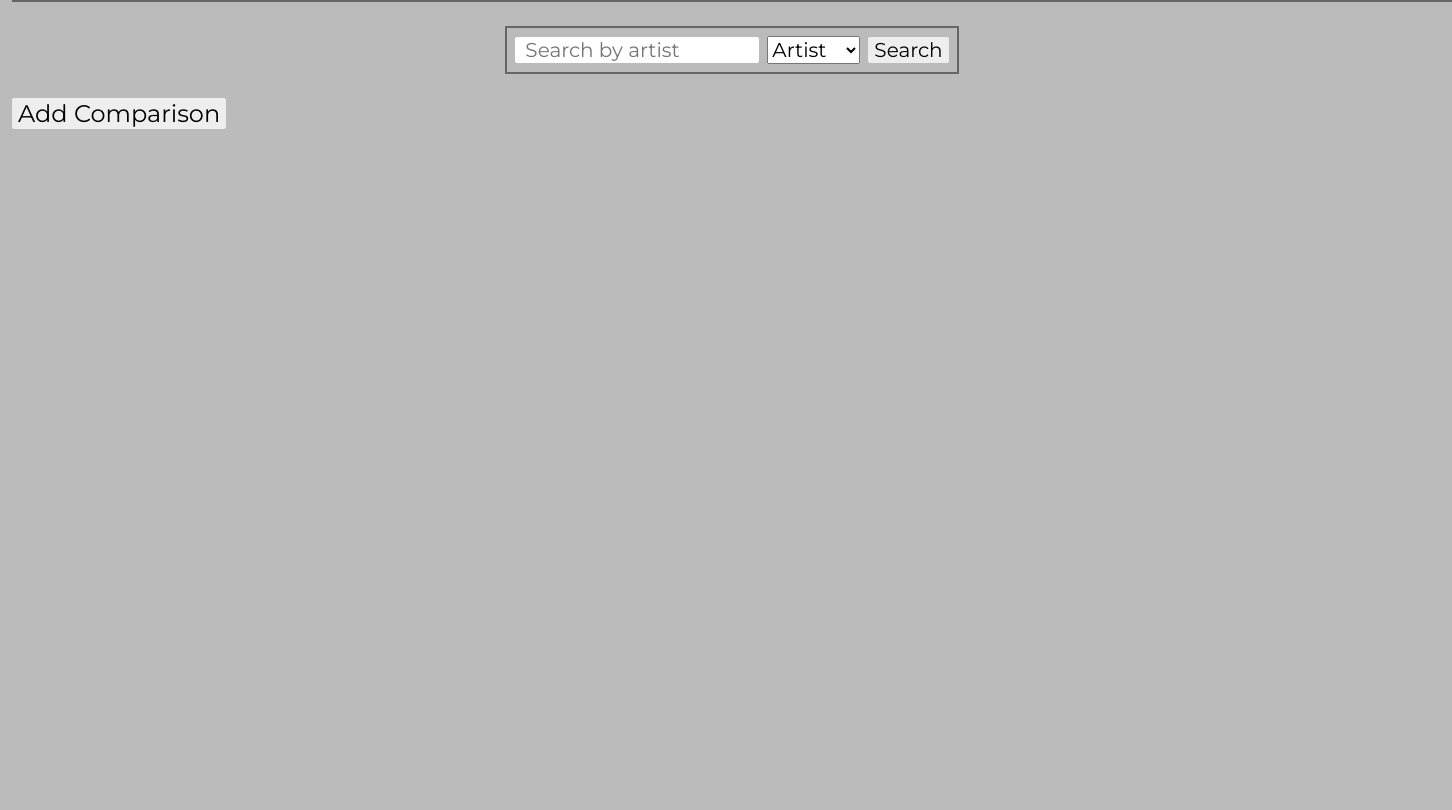
Test: displays VisualizationControls when there is more than one pane
Click the button "Add Comparison" at (119, 114), box [12, 98, 226, 129]
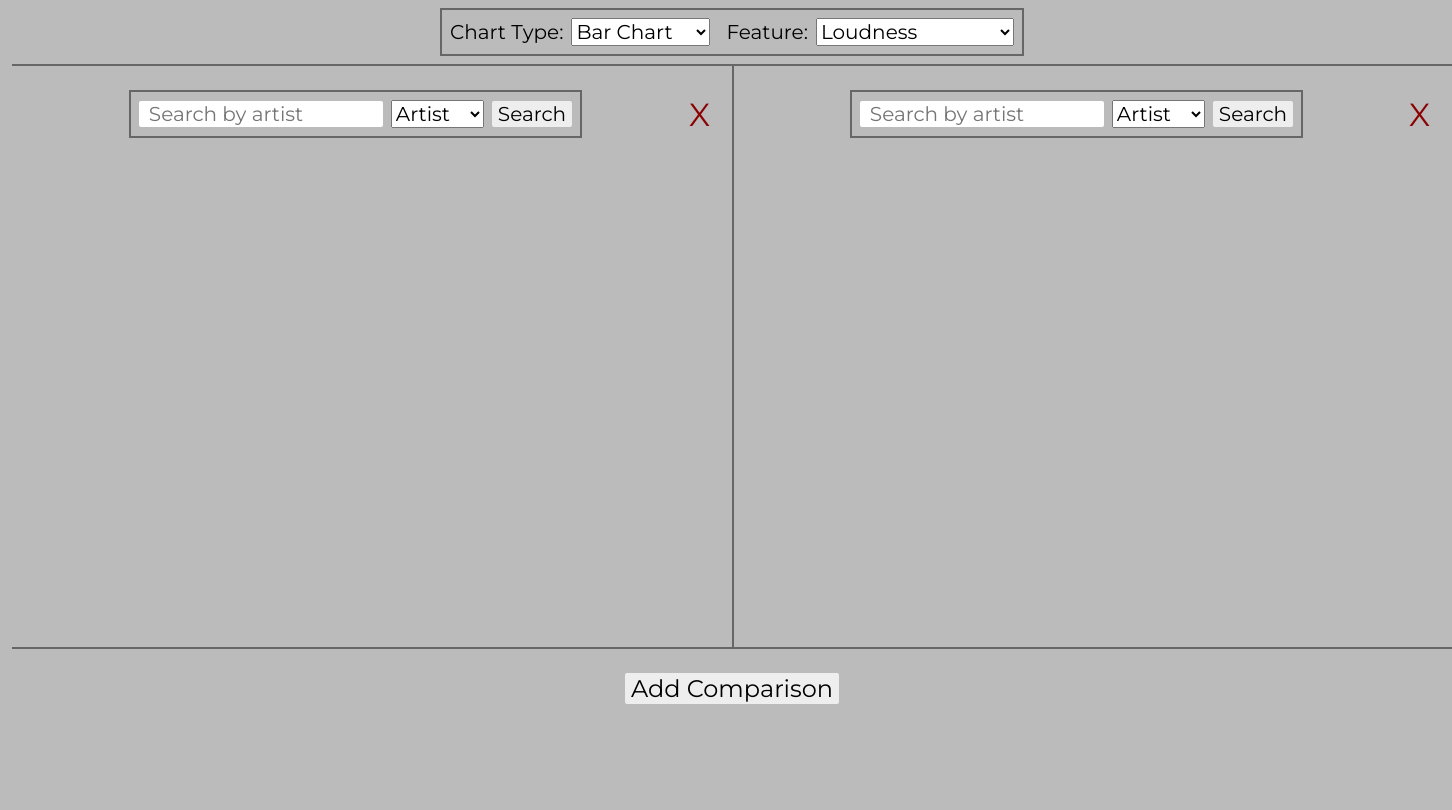
Now the element with test id "VisualizationControls" is shown, box [440, 8, 1024, 56]
